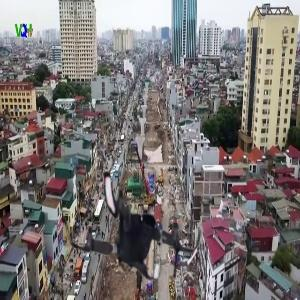drone: (63, 150, 209, 296)
